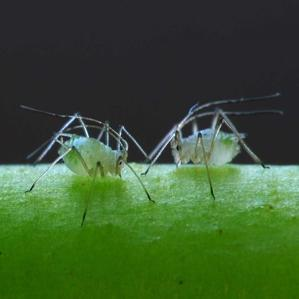Green peach aphid: (9, 89, 148, 223), (159, 66, 269, 196)
